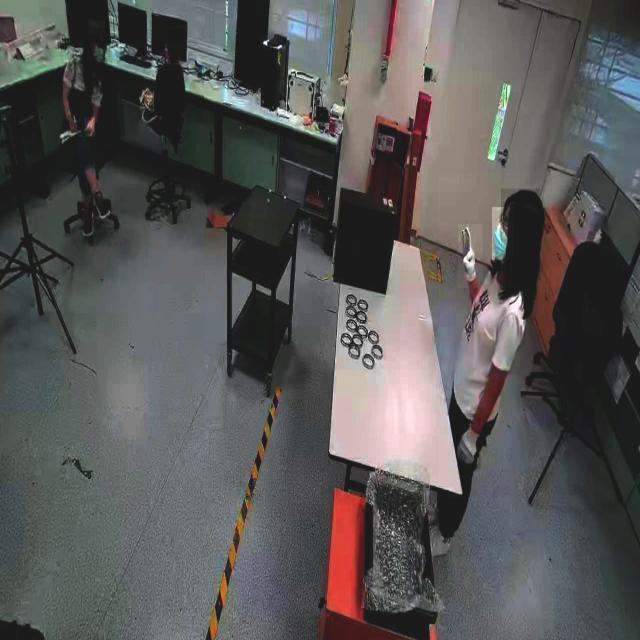face_mask: (492, 207, 514, 260), (93, 28, 105, 73)
hand_glove: (458, 224, 482, 288), (458, 414, 481, 471)
hand_noglove: (84, 117, 96, 138), (68, 115, 79, 134)
head_nohelmet: (501, 188, 541, 222), (88, 20, 106, 34)
person: (438, 173, 546, 567), (50, 23, 128, 258)
shoes: (91, 185, 113, 223), (78, 201, 97, 245)
